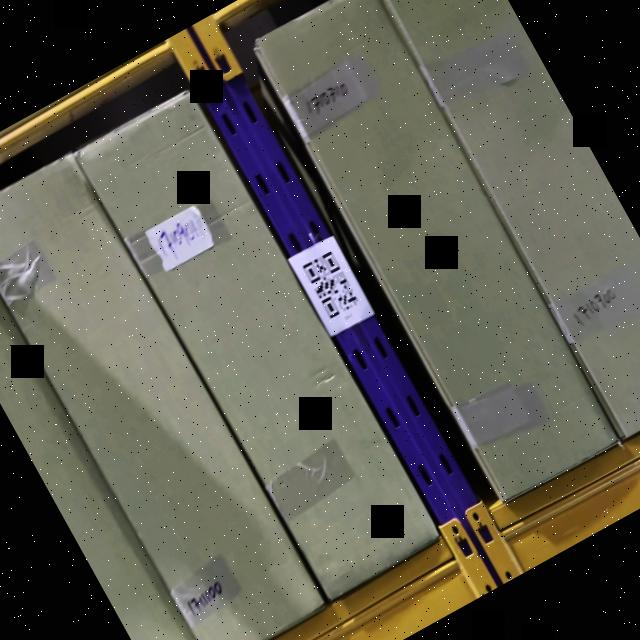box: (251, 0, 621, 502), (80, 90, 439, 598), (0, 153, 323, 640)
